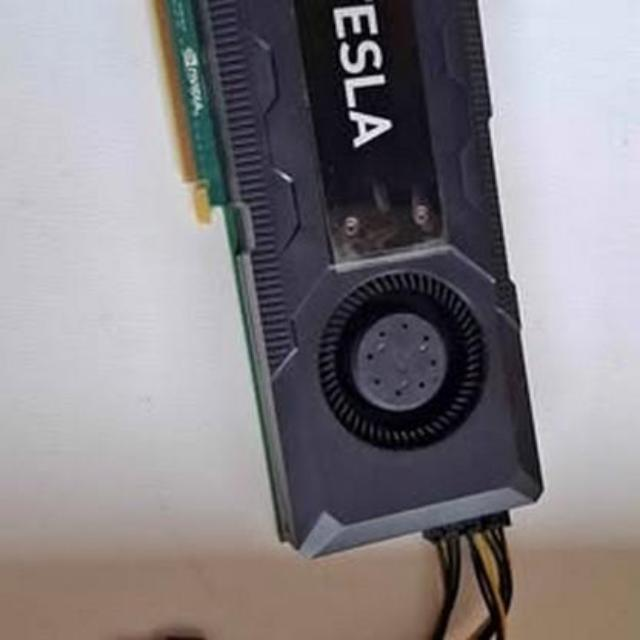GPU: (146, 0, 560, 558)
